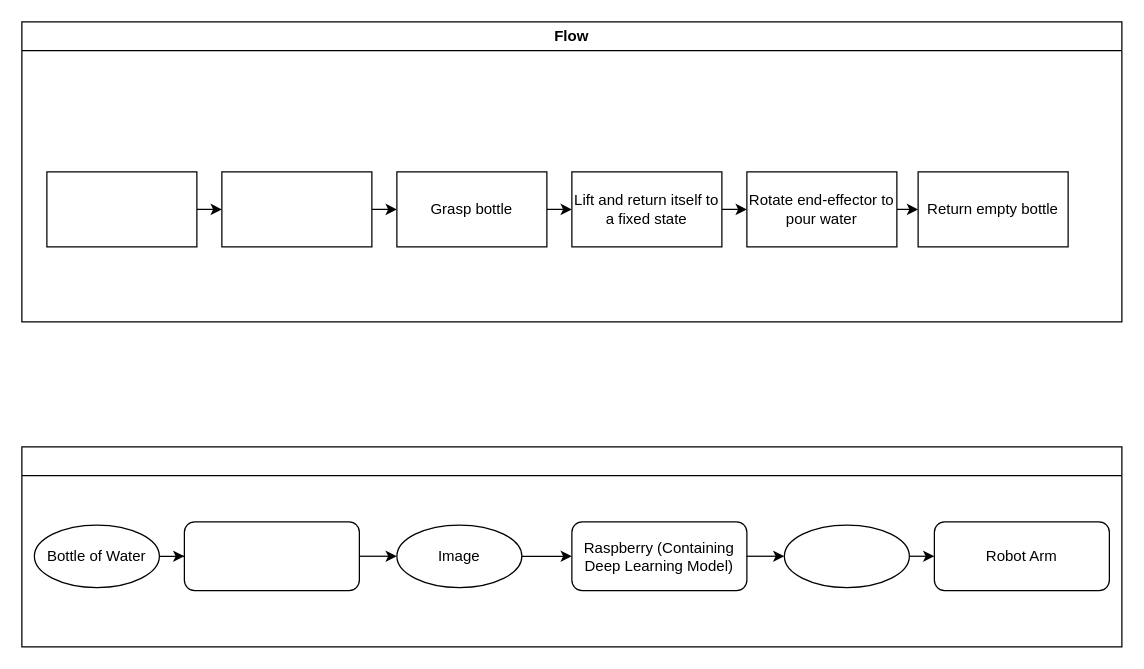
The diagram is 1144 pixels wide and 669 high, and some of its shapes have lost their labels. Each missing label, with the box of its shape:
Bottle detection (every 30 seconds): (46, 171, 197, 247)
Camera (fixed, pointed at the objects): (183, 521, 359, 591)
Components: (21, 446, 1122, 647)
Control Command to grab bottle: (221, 171, 372, 247)
Control commands: (783, 524, 909, 588)
